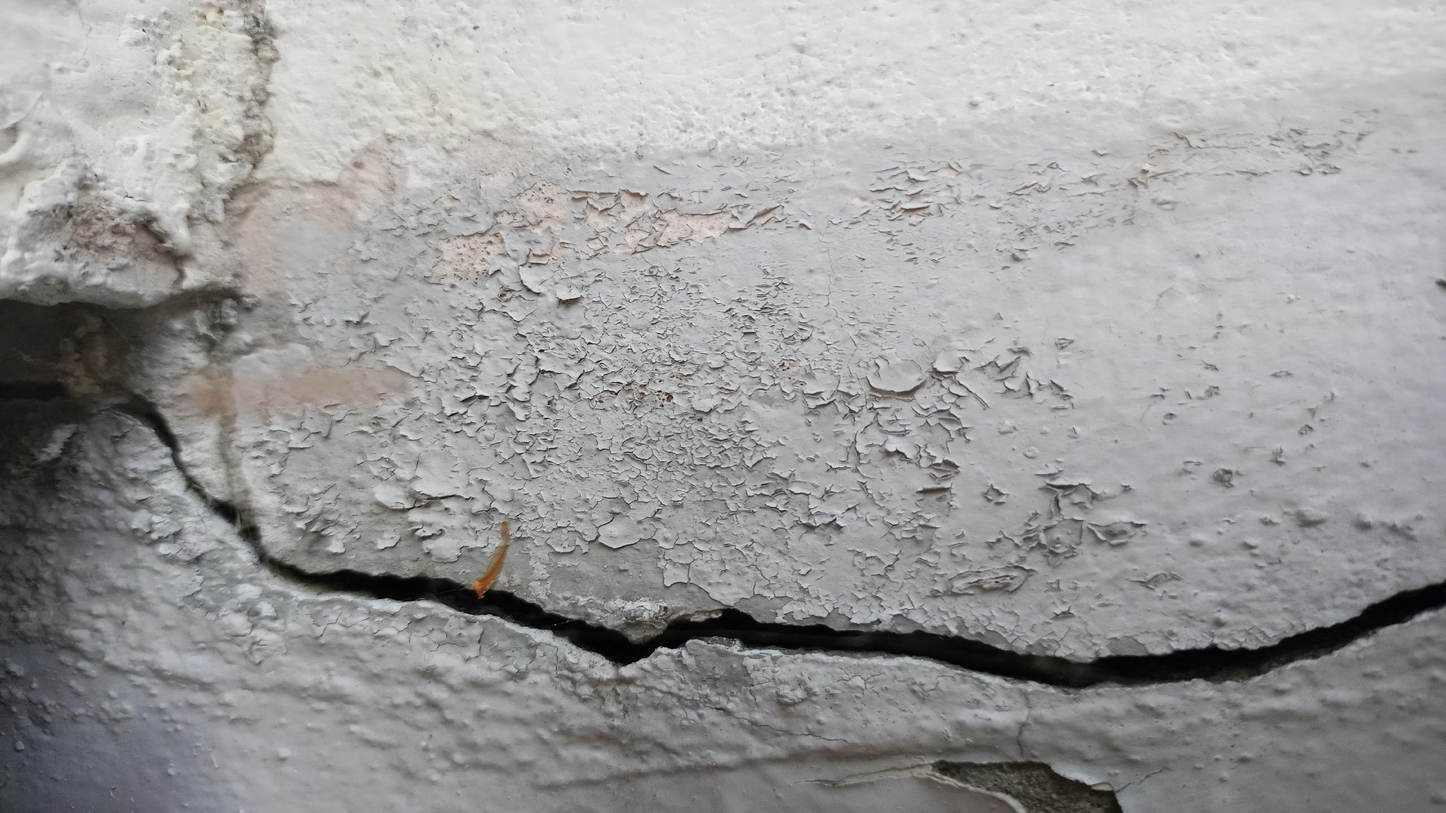crack: (108, 390, 1444, 693)
